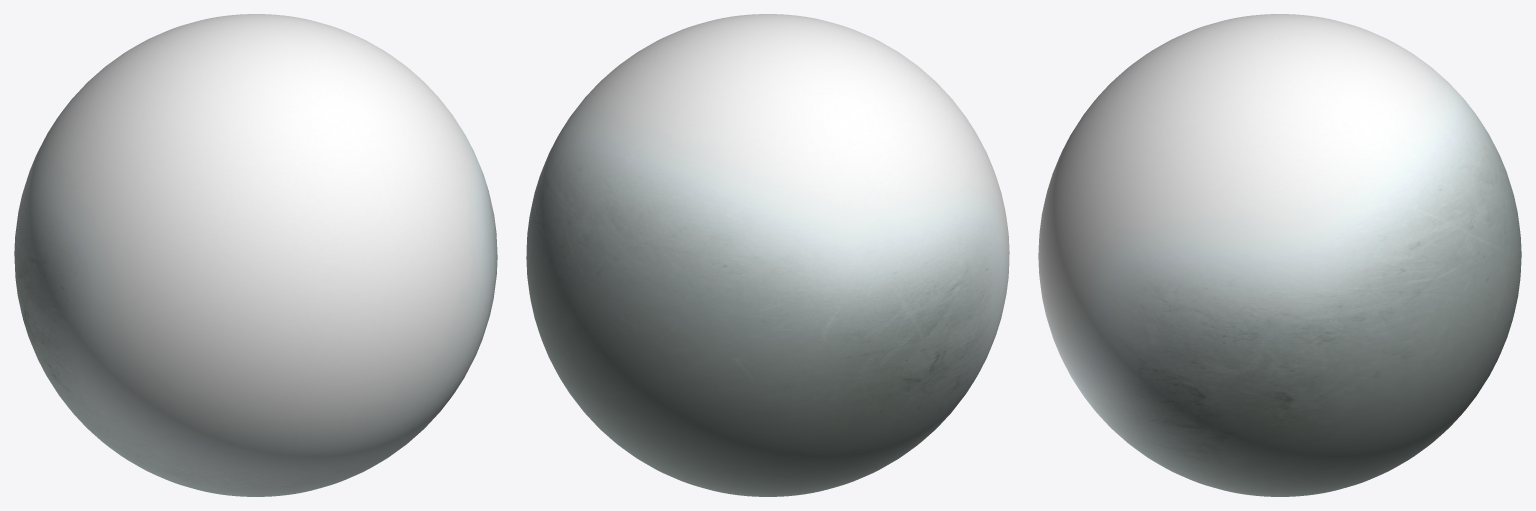
File: molecule.glb
3 renders of one model, left to right at view 1: azimuth 30°, elevation 25°; view 2: azimuth 150°, elevation 25°; view 3: azimuth 270°, elevation 25°, orthographic.
Parts seen in each view (by area): view 1: Sphere.2; view 2: Sphere.2; view 3: Sphere.2.
Part boxes in pixels (x1,y1,x2,y2): Sphere.2: (14,14,497,496); Sphere.2: (526,14,1009,496); Sphere.2: (1038,14,1521,496).
Bounding box in the file's own units: 121 × 121 × 121.
Materials: 1 (1 with a texture image).
